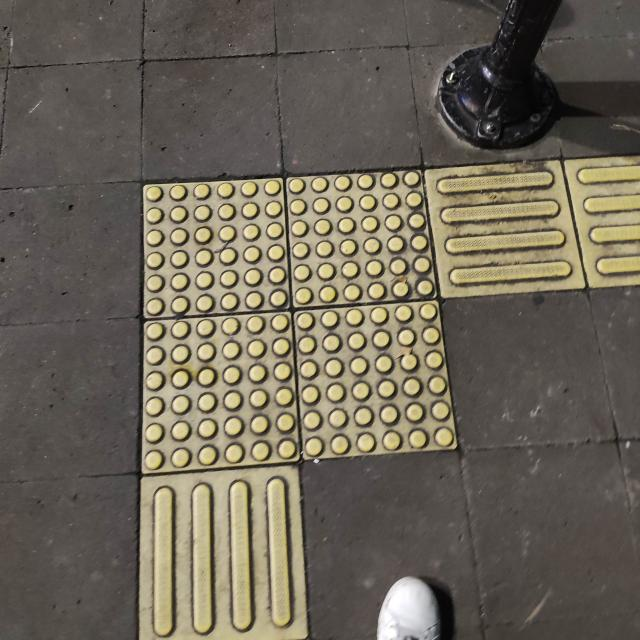kanan: (61, 124, 640, 551)
